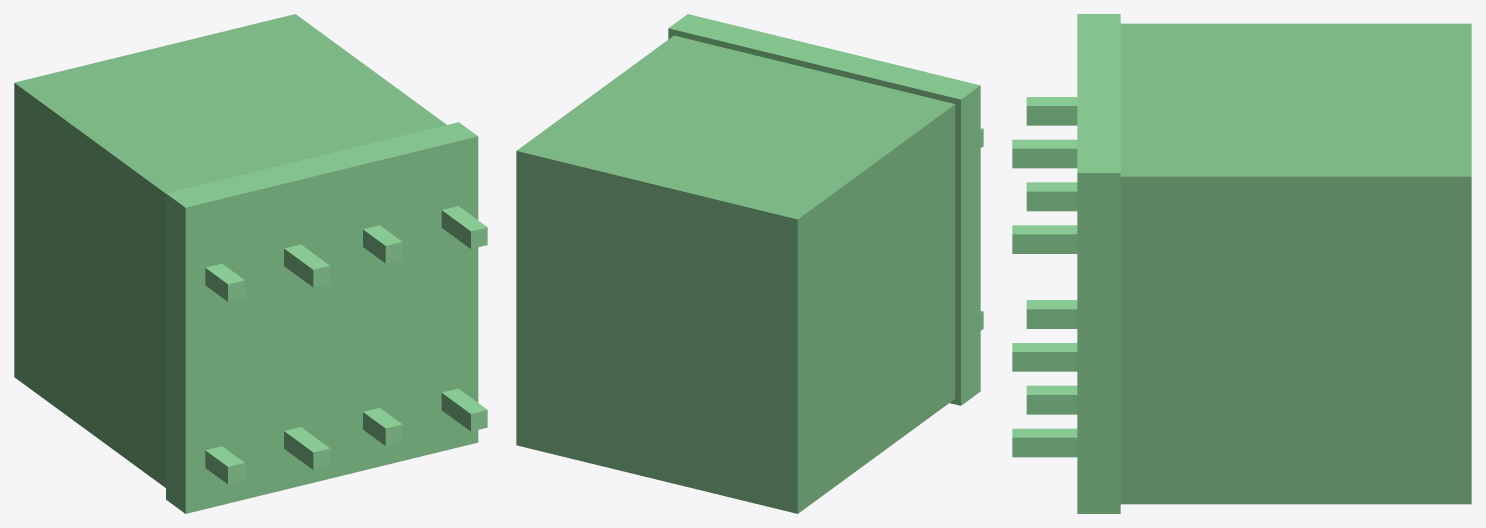
Rendered from 55_canopy_floor.glb.
The picture shows the model from 3 angles, left to right: view 1: azimuth 30°, elevation 25°; view 2: azimuth 150°, elevation 25°; view 3: azimuth 270°, elevation 25°; orthographic projection. The views are drawn at different scales.
Visible parts, largest first — view 1: TopLayer, Core, Grass_1, Grass_5, Grass_3, Grass_7, Grass_4, Grass_6, Grass_0, Grass_2; view 2: Core, TopLayer; view 3: Core, TopLayer, Grass_3, Grass_5, Grass_1, Grass_7, Grass_2, Grass_6, Grass_0, Grass_4.
Boxes of the visible parts, bbox=[...] form: TopLayer: bbox=[166, 122, 478, 513]; Core: bbox=[14, 14, 446, 487]; Grass_1: bbox=[284, 427, 330, 469]; Grass_5: bbox=[284, 244, 330, 287]; Grass_3: bbox=[441, 388, 487, 431]; Grass_7: bbox=[441, 206, 487, 248]; Grass_4: bbox=[205, 263, 244, 301]; Grass_6: bbox=[363, 225, 402, 263]; Grass_0: bbox=[205, 446, 244, 484]; Grass_2: bbox=[363, 407, 402, 445]; Core: bbox=[516, 35, 955, 513]; TopLayer: bbox=[668, 14, 980, 405]; Core: bbox=[1120, 23, 1471, 504]; TopLayer: bbox=[1077, 14, 1120, 513]; Grass_3: bbox=[1012, 428, 1077, 457]; Grass_5: bbox=[1012, 139, 1077, 168]; Grass_1: bbox=[1012, 343, 1077, 371]; Grass_7: bbox=[1012, 225, 1077, 253]; Grass_2: bbox=[1026, 385, 1077, 414]; Grass_6: bbox=[1026, 182, 1077, 211]; Grass_0: bbox=[1026, 300, 1077, 328]; Grass_4: bbox=[1026, 97, 1077, 125].
Size of the model in its own units: 1.04 by 1.04 by 1.27.
